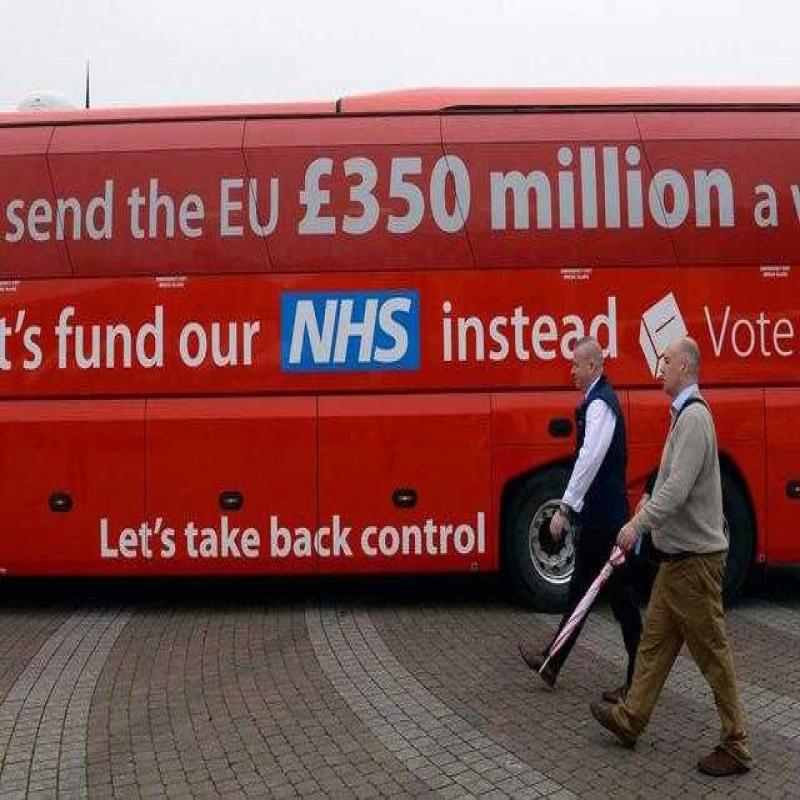bus: (18, 84, 800, 626)
